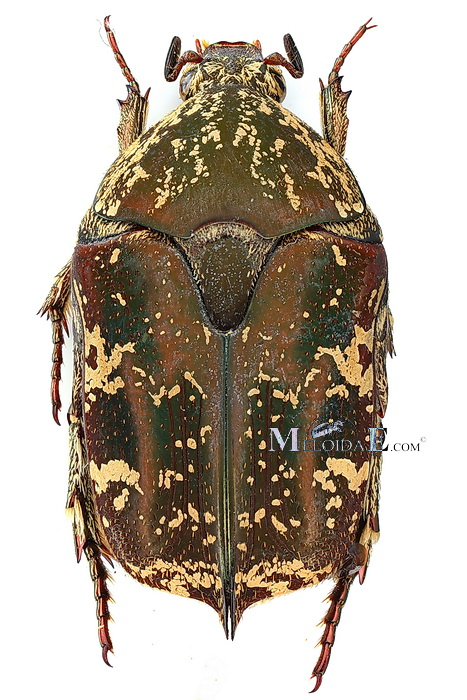Protaetia_fusca: (30, 11, 389, 697)
